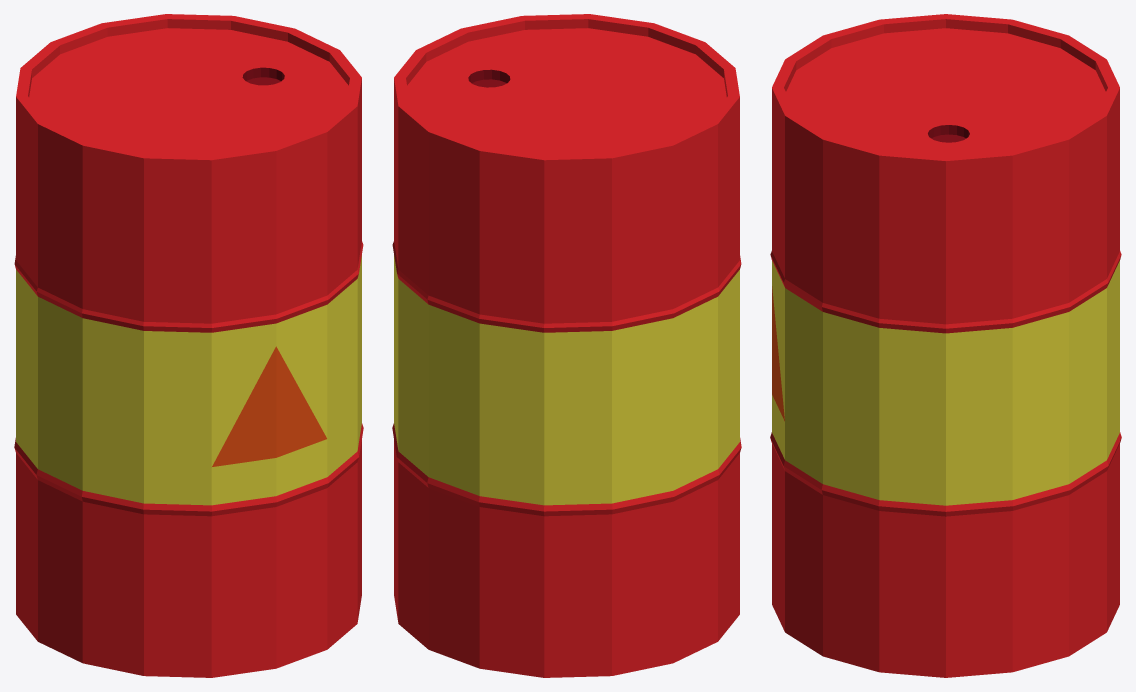
The model's file is ExplosionBarrel.glb.
The picture shows the model from 3 angles, left to right: view 1: azimuth 30°, elevation 25°; view 2: azimuth 150°, elevation 25°; view 3: azimuth 270°, elevation 25°; orthographic projection.
Visible parts, largest first — view 1: Barrel; view 2: Barrel; view 3: Barrel.
Boxes of the visible parts, x1,y1,x2,y2 form: Barrel: (14, 14, 363, 677); Barrel: (392, 14, 741, 677); Barrel: (770, 14, 1121, 677).
Size of the model in its own units: 4.41 by 7.15 by 4.41.
